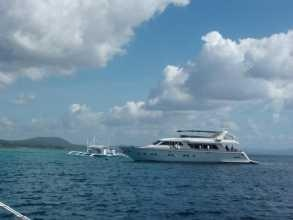yacht: (122, 119, 256, 162)
